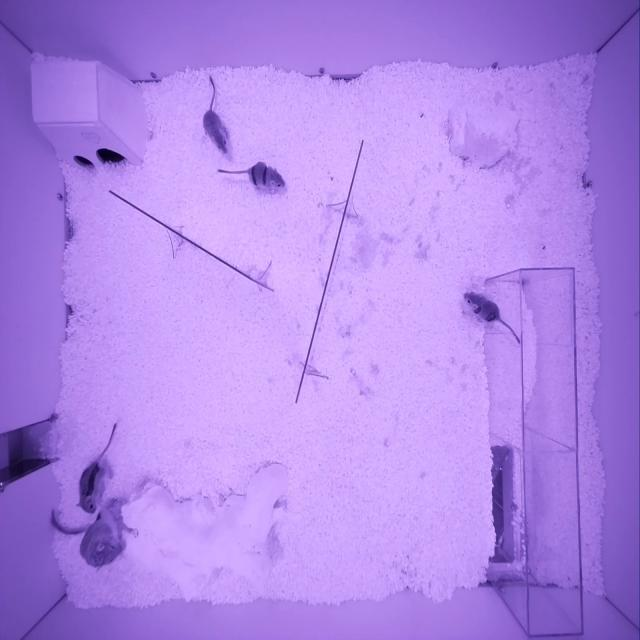adult_back: (78, 497, 124, 574)
pup_fluffy: (203, 109, 229, 153)
pup_h_stripe: (248, 161, 285, 190)
pup_spotted: (463, 290, 501, 323)
pup_v_stripe: (76, 461, 104, 514)
